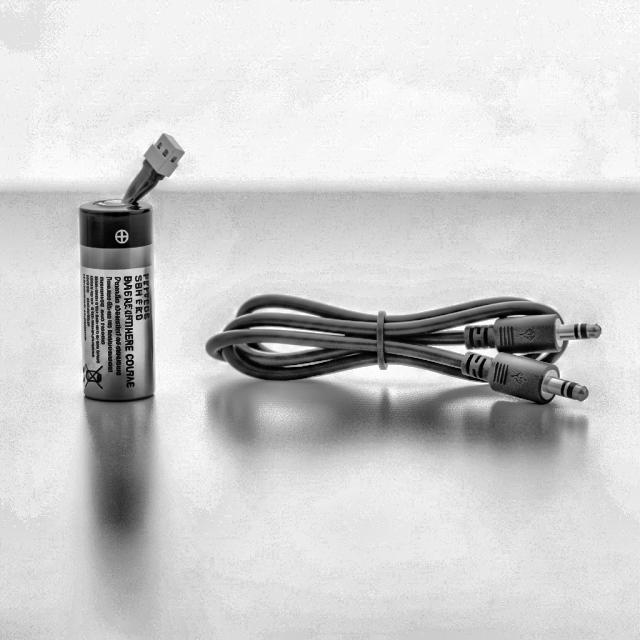Battery: (80, 201, 153, 401)
Cable: (205, 291, 601, 406)
